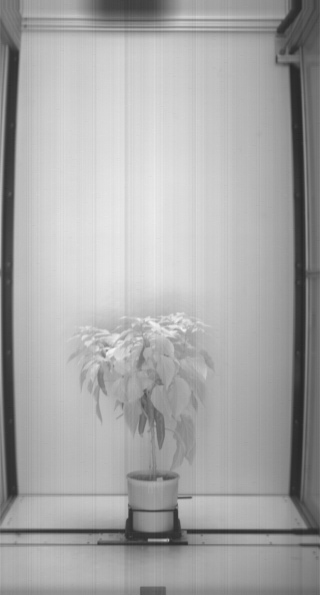bell-pepper fooled_you: (154, 408, 166, 449), (139, 399, 148, 436), (97, 368, 107, 396)
